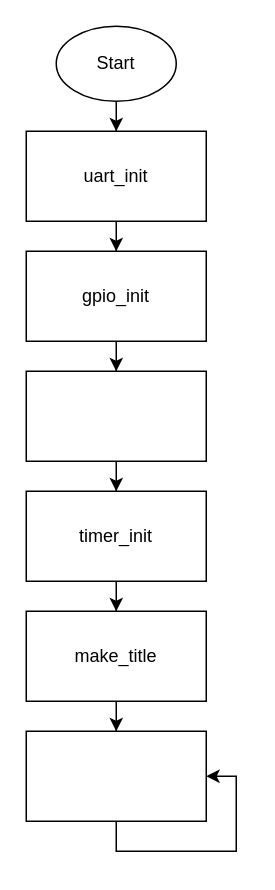
Image size: 275x890. Some labels were removed from this diagram. Each missing label, with the centre of its shape:
"interrupt_init" goes at point (115, 415).
"wait for interrupt" goes at point (115, 775).
